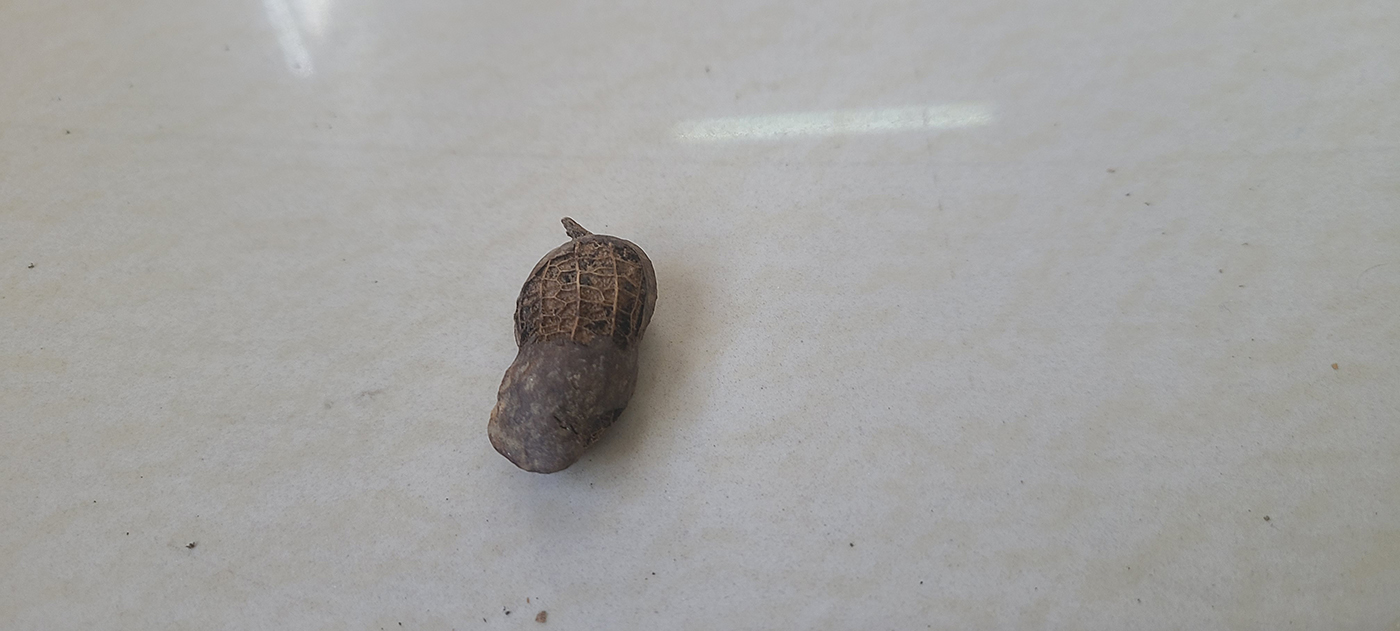l: (491, 238, 656, 474)
